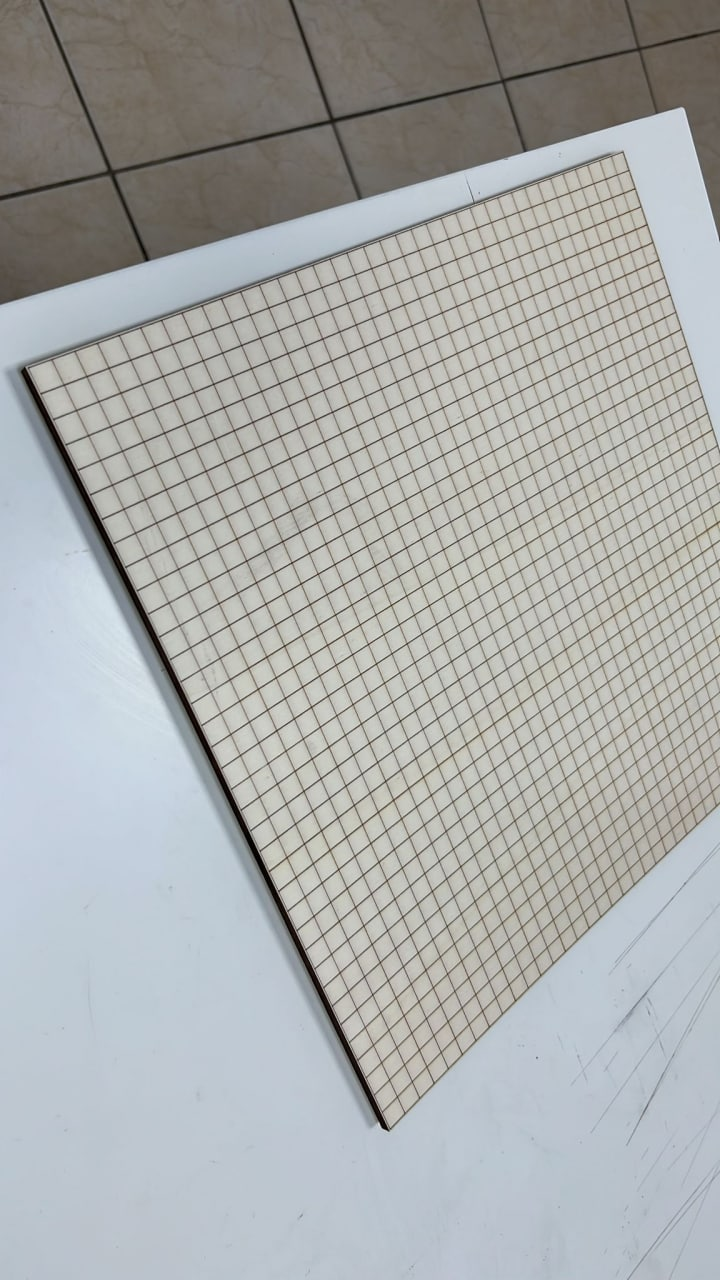grid: (23, 141, 720, 1137)
